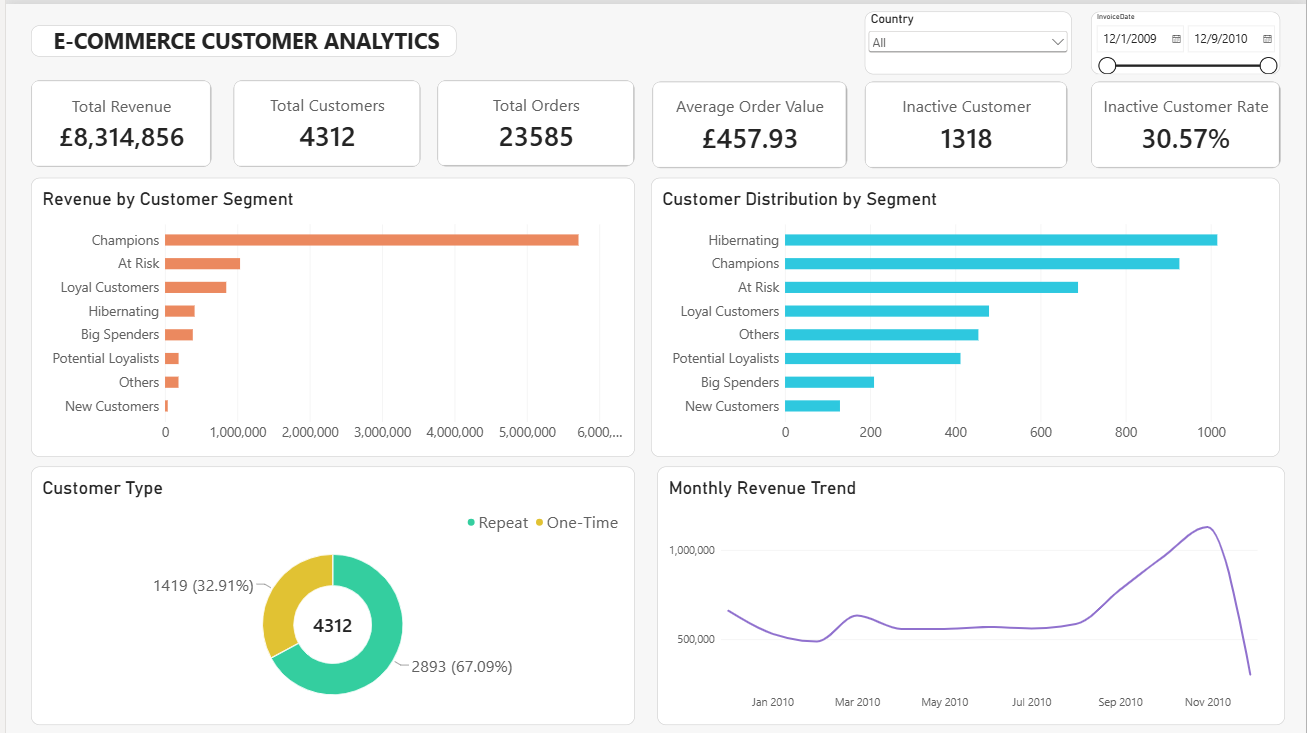

Layout of this report page (visuals, bound fields, positions):
{"tool":"powerbi","page":{"name":"Executive Overview","canvas":[1920,1250],"ordinal":0},"visuals":[{"type":"cardVisual","fields":{"Data":["customer_analytics.Total Revenue"]},"box":[36.8,165.5,266.3,128.3],"z":0},{"type":"cardVisual","fields":{"Data":["customer_analytics.Total Customers"]},"box":[334.2,165.5,276,128.3],"z":1000},{"type":"cardVisual","fields":{"Data":["customer_analytics.Total Orders"]},"box":[635.5,165.5,291.3,127.3],"z":2000},{"type":"cardVisual","fields":{"Data":["customer_analytics.Average Order Value"]},"box":[952.3,167.4,287.7,128.3],"z":3000},{"type":"barChart","title":"Revenue by Customer Segment","fields":{"Category":["customer_analytics.Customer_Segment"],"Y":["customer_analytics.Customer Segment Revenue"]},"box":[36.8,309.6,890.2,460.7],"z":4000},{"type":"clusteredBarChart","title":"Customer Distribution by Segment","fields":{"Category":["customer_analytics.Customer_Segment"],"Y":["customer_analytics.Total Customers"]},"box":[952.3,309.6,927.2,460.7],"z":5000},{"type":"cardVisual","fields":{"Data":["customer_analytics.Inactive Customer"]},"box":[1267.2,167.4,299.3,128.3],"z":6000},{"type":"cardVisual","fields":{"Data":["customer_analytics.Inactive Customer Rate"]},"box":[1599.6,167.4,279.9,128.3],"z":7000},{"type":"donutChart","title":"Customer Type","fields":{"Category":["customer_analytics.Customer_Type"],"Y":["customer_analytics.Total Customers"]},"box":[36.8,781.6,890.2,443.2],"z":8000},{"type":"lineChart","title":"Monthly Revenue Trend","fields":{"Category":["ecommerce_cleaned_transactions.InvoiceDate.Variation.Date Hierarchy.Year","ecommerce_cleaned_transactions.InvoiceDate.Variation.Date Hierarchy.Month"],"Y":["customer_analytics.Total Revenue"]},"box":[952.3,781.6,927.2,443.2],"z":9000},{"type":"textbox","box":[645.3,81.6,627.8,46.6],"z":9001}]}

Visuals, with their boxes on the page's 1920x1250 design canvas (x1, y1, x2, y2). These are canvas units, not pixel positions in the 1307x733 screenshot, which may show the page scaled, cropped or inside an application window:
cardVisual - customer_analytics.Total Revenue: <bbox>37, 166, 303, 294</bbox>
cardVisual - customer_analytics.Total Customers: <bbox>334, 166, 610, 294</bbox>
cardVisual - customer_analytics.Total Orders: <bbox>636, 166, 927, 293</bbox>
cardVisual - customer_analytics.Average Order Value: <bbox>952, 167, 1240, 296</bbox>
"Revenue by Customer Segment" barChart: <bbox>37, 310, 927, 770</bbox>
"Customer Distribution by Segment" clusteredBarChart: <bbox>952, 310, 1880, 770</bbox>
cardVisual - customer_analytics.Inactive Customer: <bbox>1267, 167, 1566, 296</bbox>
cardVisual - customer_analytics.Inactive Customer Rate: <bbox>1600, 167, 1880, 296</bbox>
"Customer Type" donutChart: <bbox>37, 782, 927, 1225</bbox>
"Monthly Revenue Trend" lineChart: <bbox>952, 782, 1880, 1225</bbox>
textbox: <bbox>645, 82, 1273, 128</bbox>
